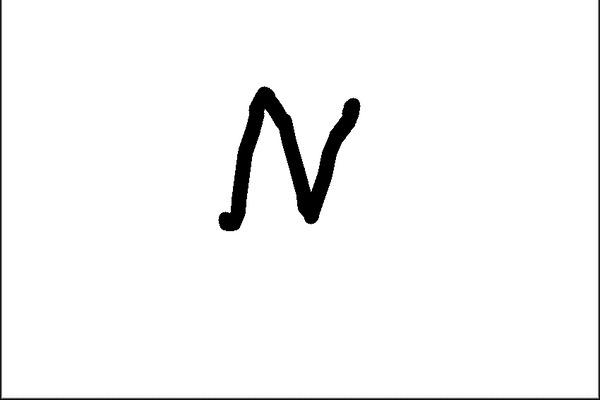N: (212, 81, 366, 235)
